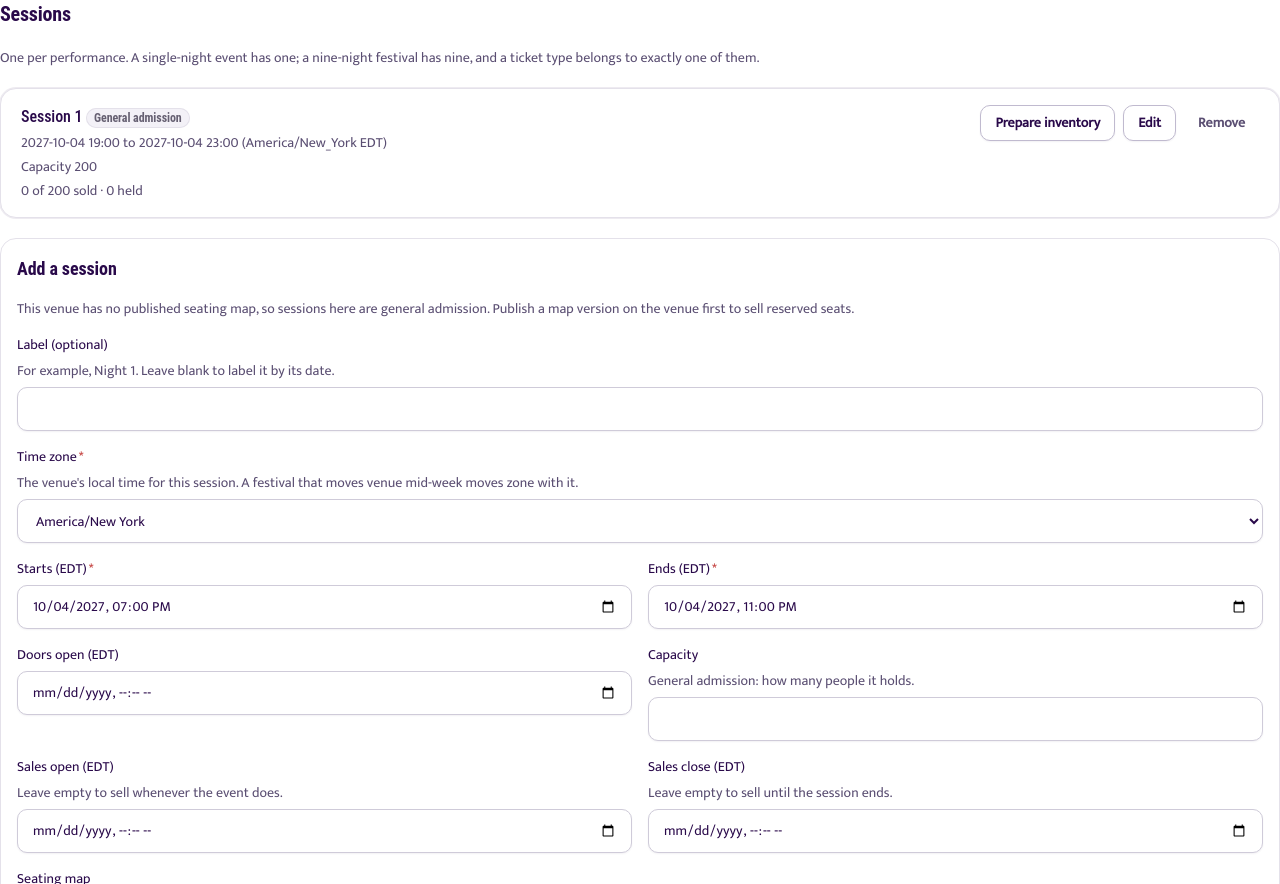
Test case: writing as the team at The Desi Events, whose second factor lapses every 10 minutes › tells the editor when a write finds the editing session closed
Click the button with aria-label "Remove session 1" at (1222, 123), box [1184,105,1259,141]
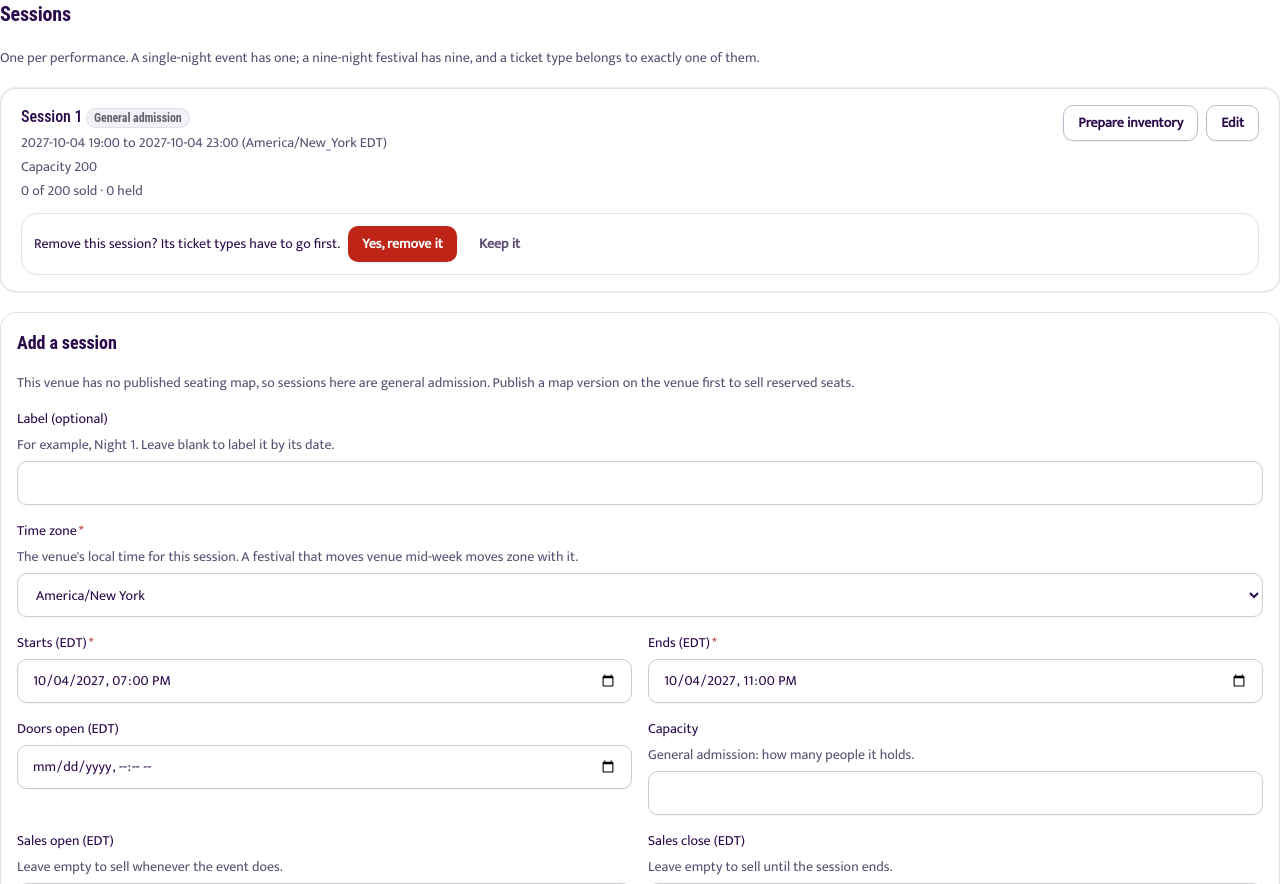
Click the button "Yes, remove it" at (403, 244), box [348,226,457,262]
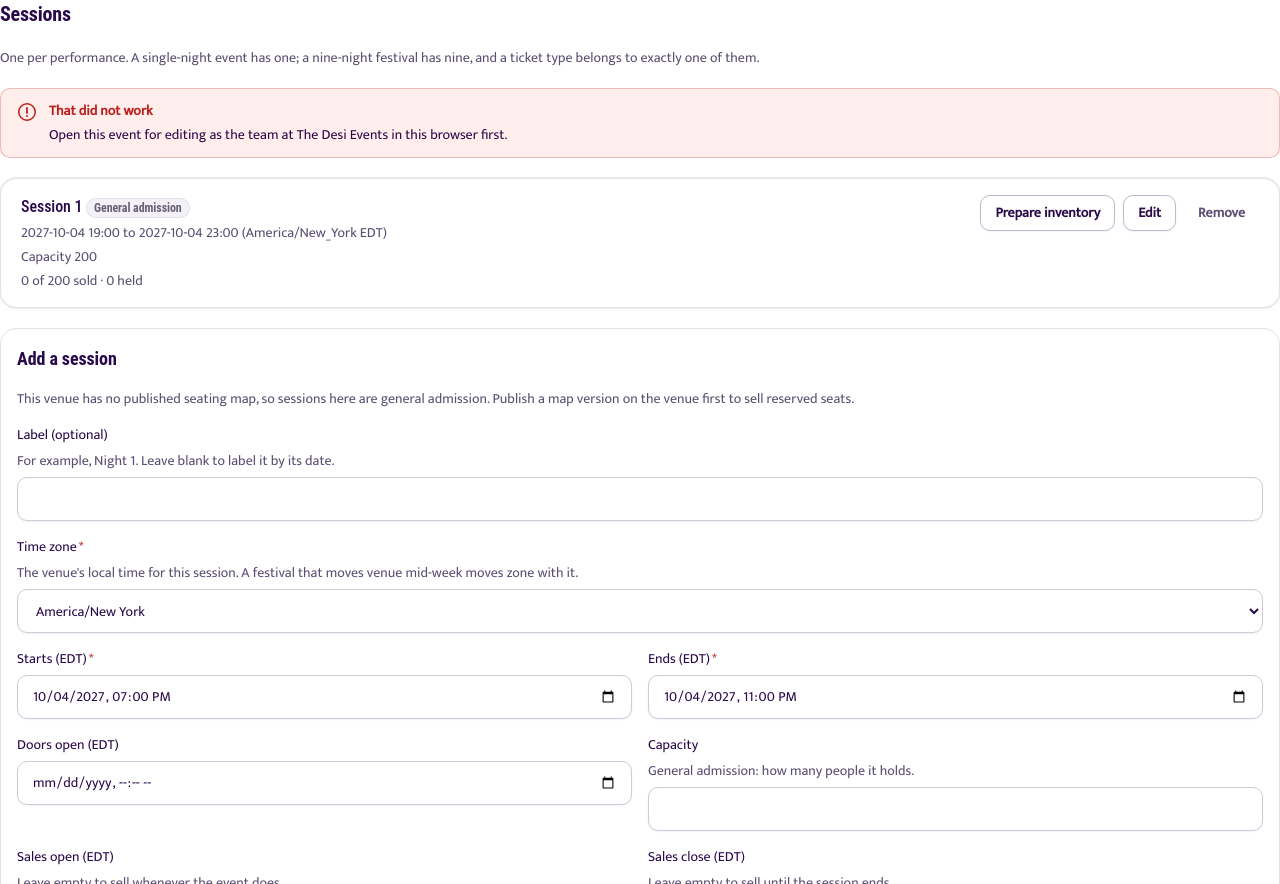
Expected: the text "Open this event for editing as the team at The Desi Events" is shown, [49,123,507,146]
